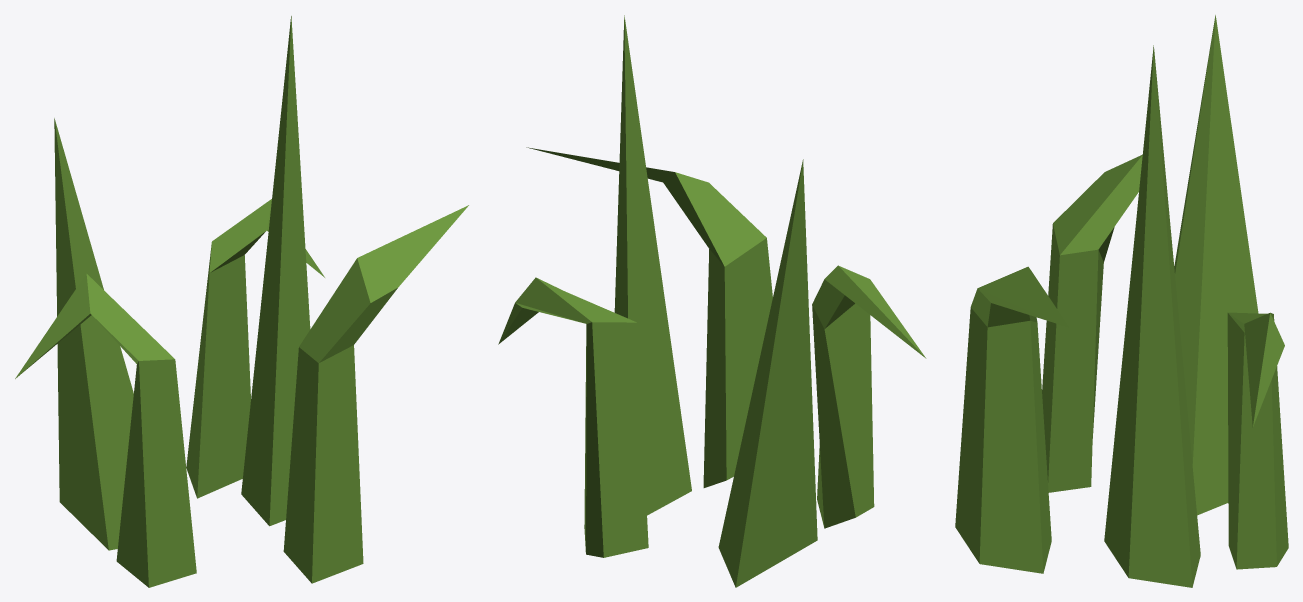
File: grass2 1.fbx
3 renders of one model, left to right at view 1: azimuth 30°, elevation 25°; view 2: azimuth 150°, elevation 25°; view 3: azimuth 270°, elevation 25°, orthographic. The views are drawn at different scales.
Visible parts, largest first — view 1: Cube.001; view 2: Cube.001; view 3: Cube.001.
Boxes of the visible parts, x1,y1,x2,y2 form: Cube.001: (15, 16, 468, 587); Cube.001: (498, 15, 926, 587); Cube.001: (955, 15, 1288, 587).
Size of the model in its own units: 190 by 215 by 119.
